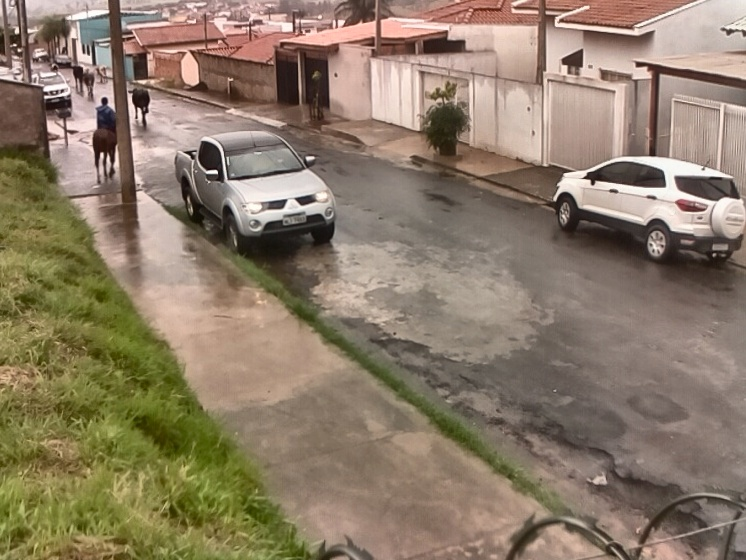person: (92, 95, 118, 136)
